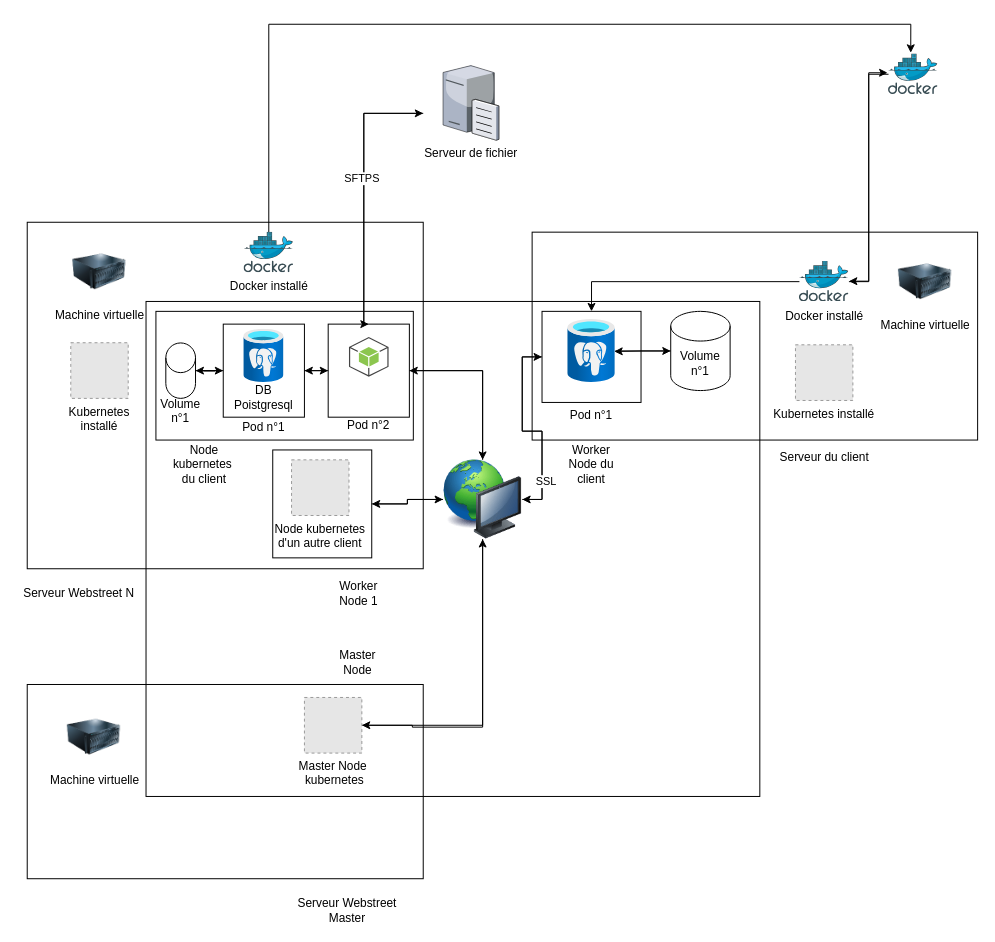
This 995x942 diagram has some shape labels left out. Grey dashed boxes stand in for pictures. Here are the shapes that lost their labels. From the top down, the centre of each, then its label:
At point 913,73: "Private registry Docker".
At point 368,356: "Serveur NodeJS".
At point 591,350: "DB PostgreSQL".
At point 482,499: "Network Overlay".
